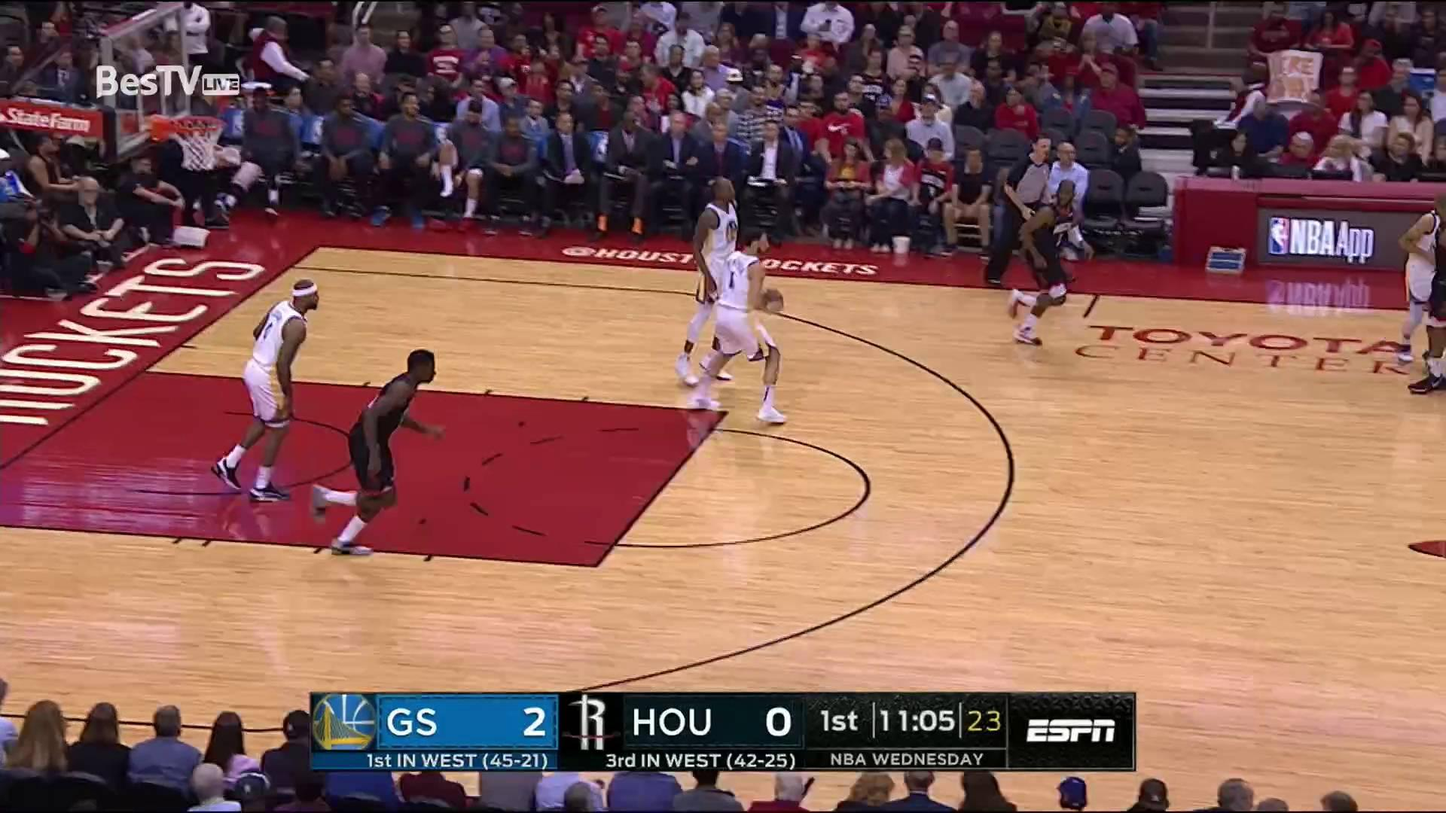basketball: (757, 285, 785, 311)
